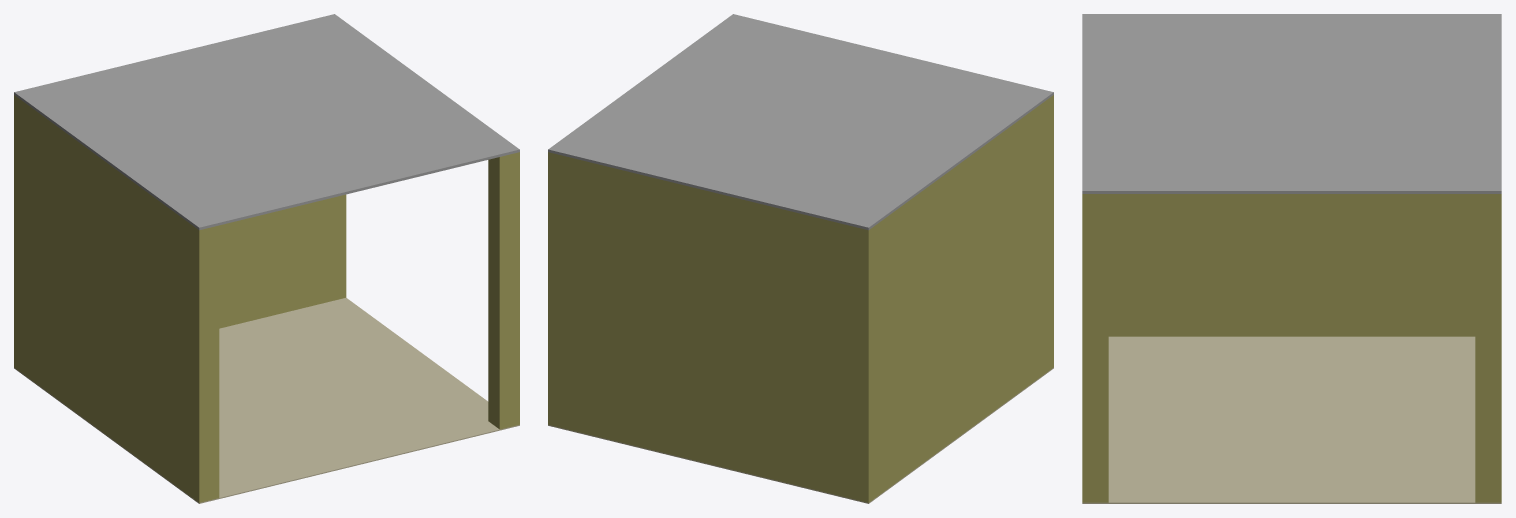
Rendered from tile6.gltf.
The picture shows the model from 3 angles, left to right: view 1: azimuth 30°, elevation 25°; view 2: azimuth 150°, elevation 25°; view 3: azimuth 270°, elevation 25°; orthographic projection. The views are drawn at different scales.
Parts seen in each view (by area): view 1: cube (×5); view 2: cube (×4); view 3: cube (×5).
Part boxes in pixels (bbox=[...]): cube (×5): bbox=[14, 14, 519, 503]; cube (×4): bbox=[548, 14, 1053, 503]; cube (×5): bbox=[1082, 14, 1501, 503].
Bounding box in the file's own units: 1 × 0.8234 × 1.
Materials: 1 (1 with a texture image).
